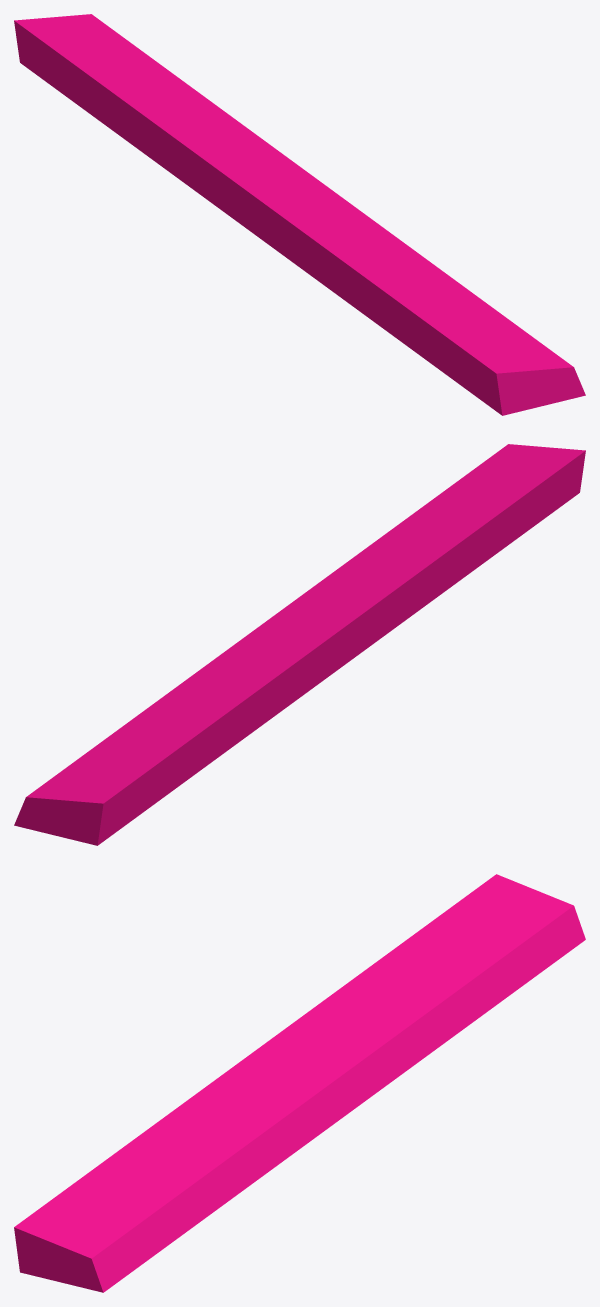
File: SM_Spoiler_Lip.fbx
The picture shows the model from 3 angles, top to bottom: view 1: azimuth 30°, elevation 25°; view 2: azimuth 150°, elevation 25°; view 3: azimuth 330°, elevation 25°; orthographic projection.
Parts seen in each view (by area): view 1: SM_Spoiler_Lip; view 2: SM_Spoiler_Lip; view 3: SM_Spoiler_Lip.
Part boxes in pixels (x1=…): SM_Spoiler_Lip: x1=14, y1=14, x2=585, y2=415; SM_Spoiler_Lip: x1=14, y1=444, x2=585, y2=845; SM_Spoiler_Lip: x1=14, y1=874, x2=585, y2=1292.
Size of the model in its own units: 15 by 7 by 140.
